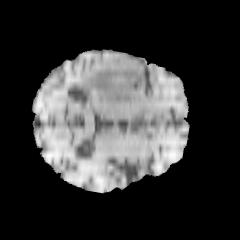glioma: (77, 57, 144, 105)
